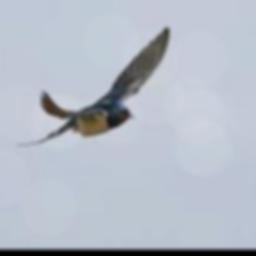Swallow: (17, 25, 171, 148)
